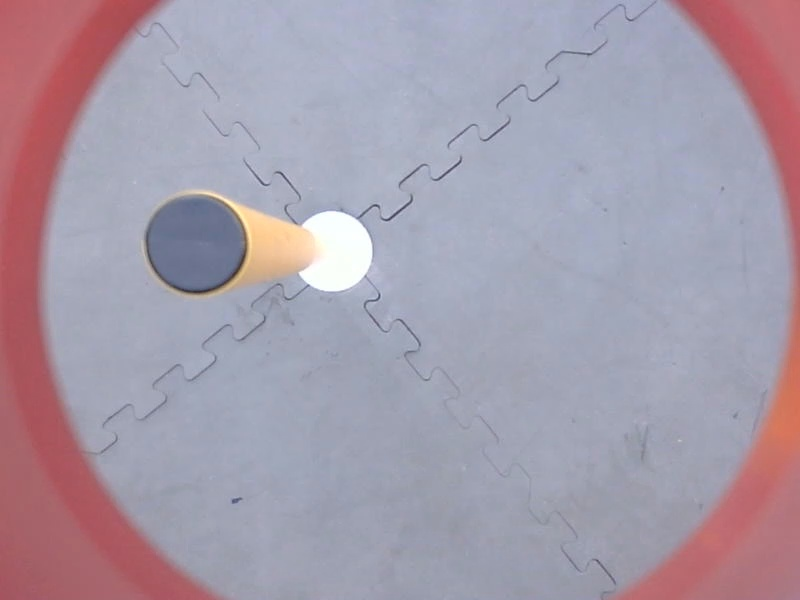tip: (133, 185, 258, 305)
